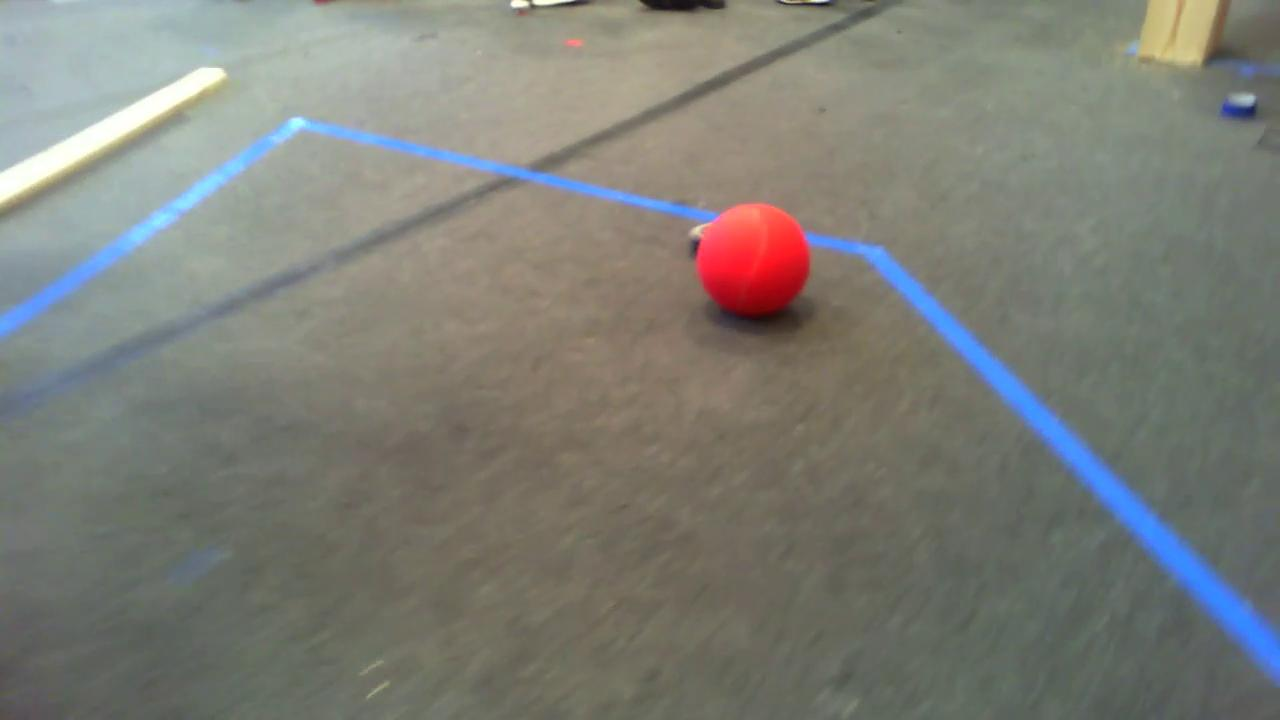Red_Ball: (667, 189, 842, 327)
